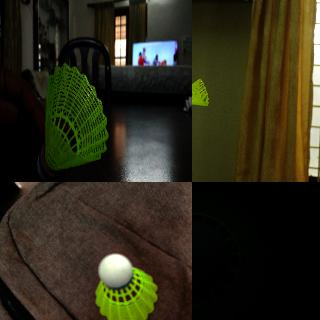shuttlecock: (192, 189, 269, 319), (36, 62, 108, 181), (94, 253, 158, 319), (192, 78, 209, 107)
